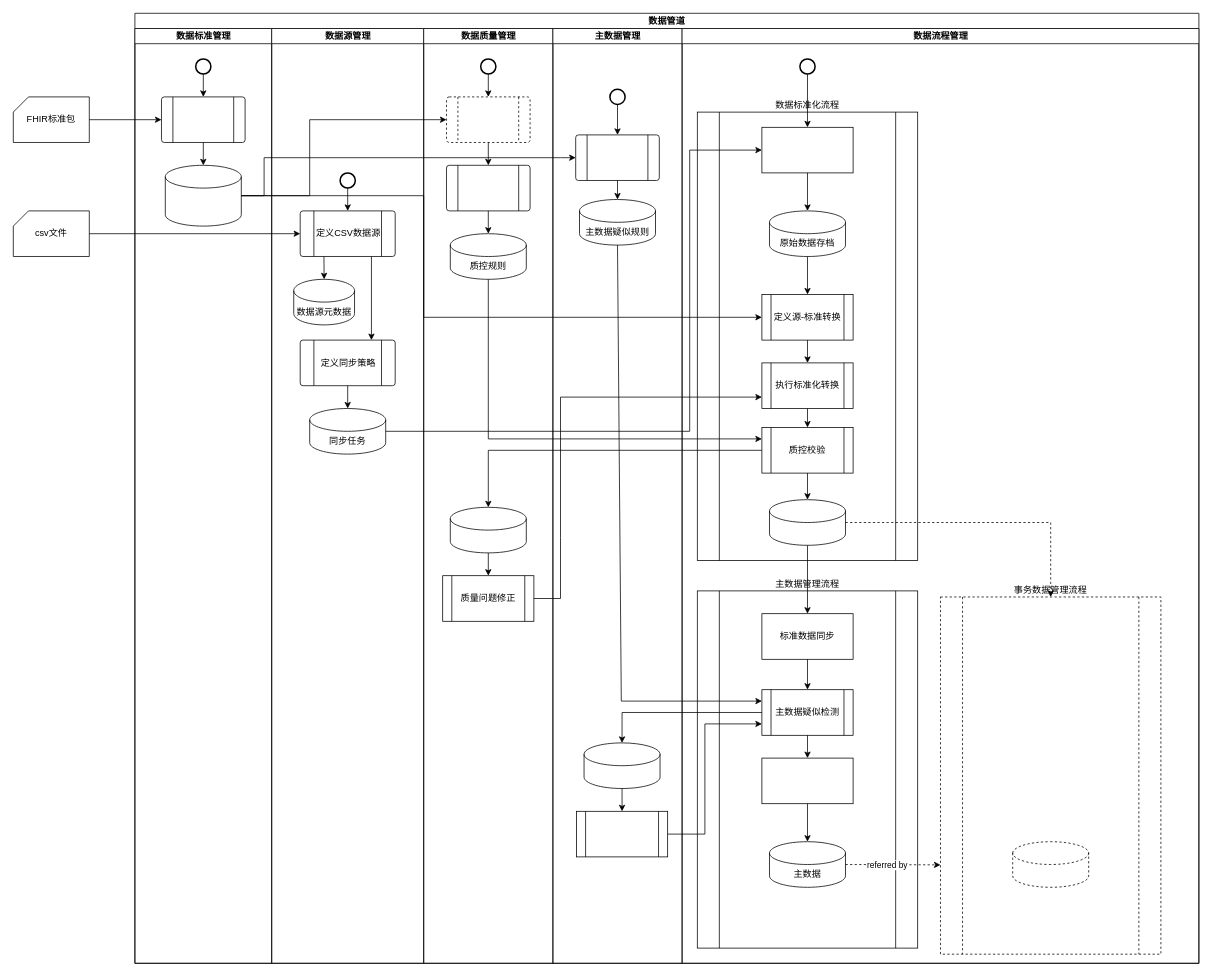
The diagram is 1212 pixels wide and 977 high, and some of its shapes have lost their labels. Each missing label, with the centre of its shape:
主数据生成: (x=807, y=780)
主数据疑似规则定义: (x=617, y=157)
主数据疑似记录: (x=621, y=765)
事务数据: (x=1050, y=864)
受控数据标准: (x=203, y=195)
数据标准导入: (x=203, y=119)
标准化数据: (x=807, y=522)
标准质量约束汇总: (x=488, y=119)
疑似记录处理: (x=622, y=834)
自定义质控规则定义: (x=488, y=188)
质量问题报告: (x=488, y=530)
选择数据源同步任务: (x=807, y=150)
